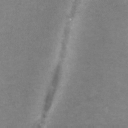finishing roll printing: (42, 0, 80, 120), (38, 124, 41, 128)
